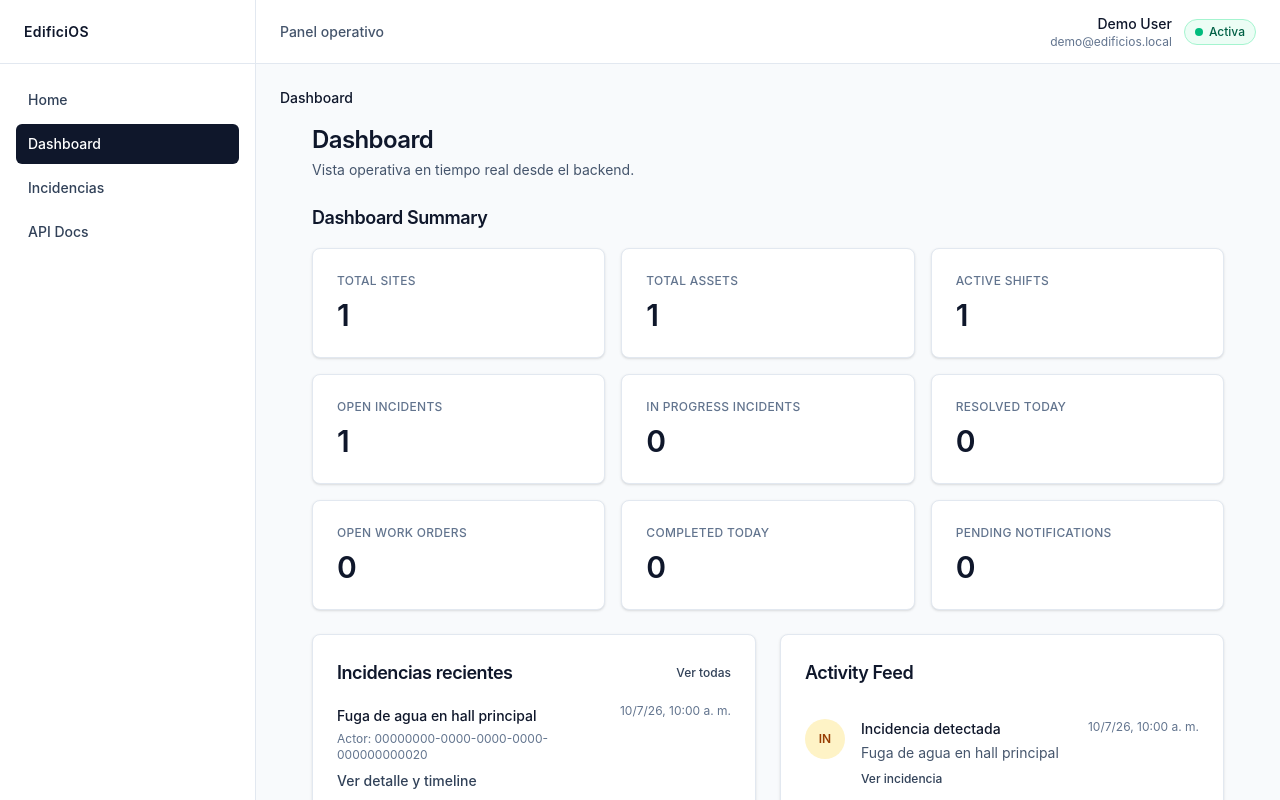
Test: IncidentsPage › reuses dashboard cache without refetching when navigating from dashboard
What coordinates should you click on to do the following:
click the link "Ver todas"
I would click on:
 (704, 673)
Its box is [676,665,731,681].
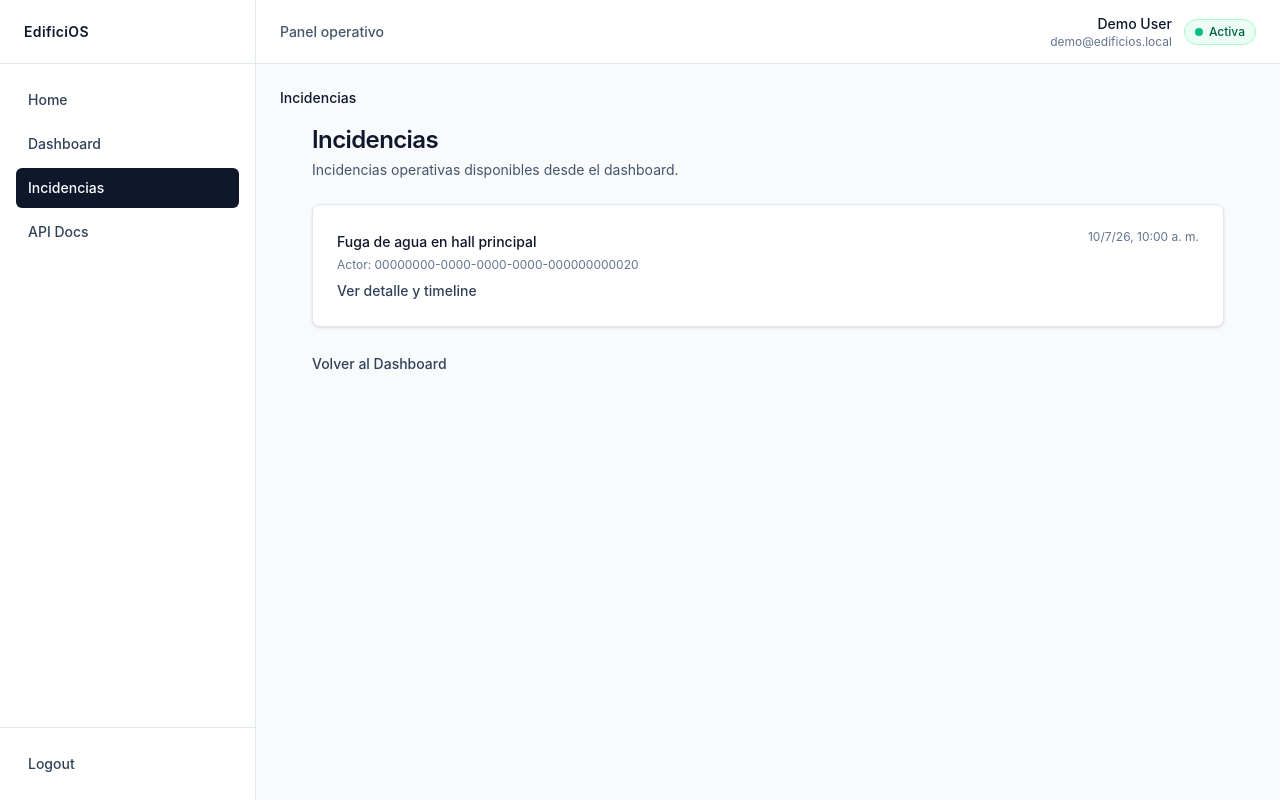
Expected: the link "Fuga de agua en hall principal" is shown, [337,233,536,250]
Expected: the heading "Incidencias" is shown, [312,125,438,154]
